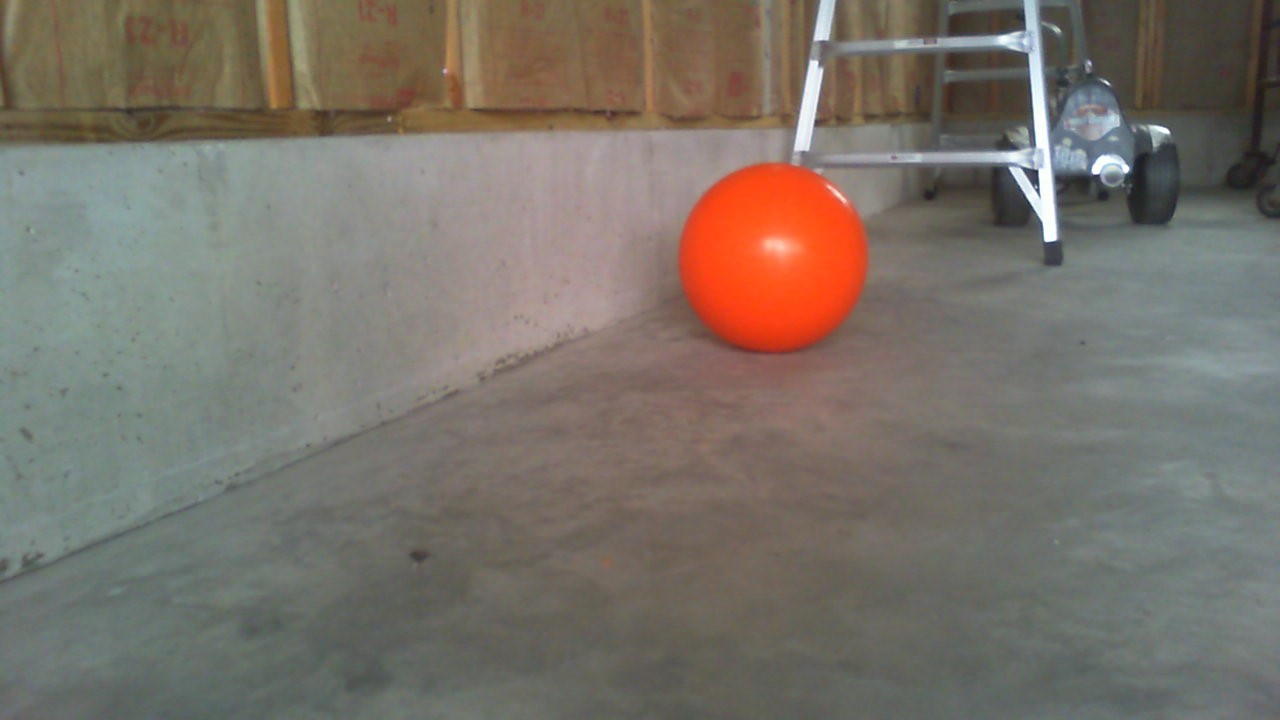Ball: (676, 161, 865, 349)
